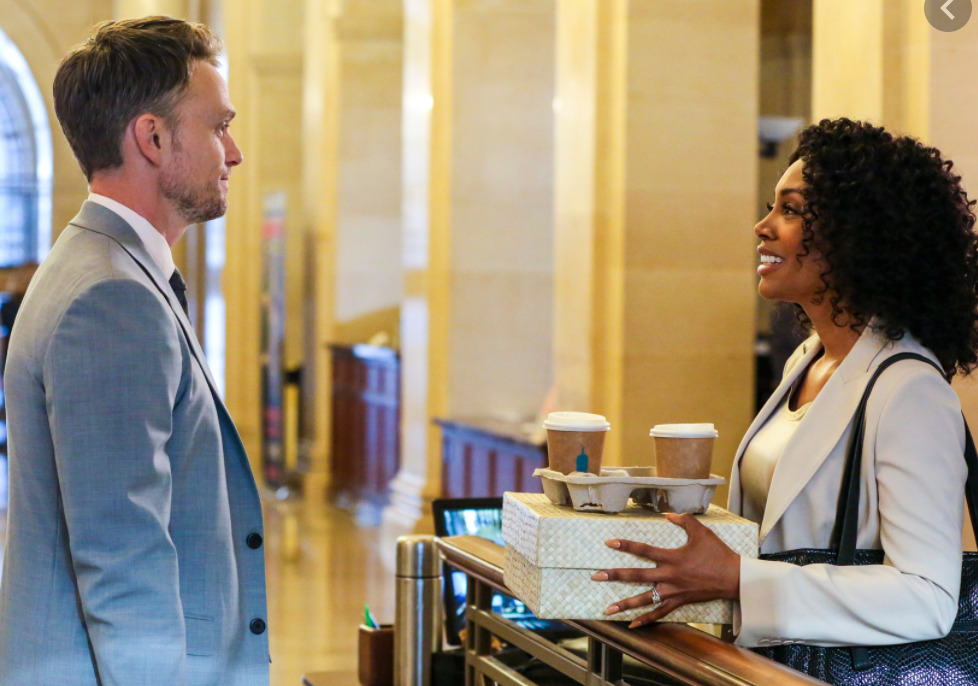Caution: (17, 11, 976, 680)
